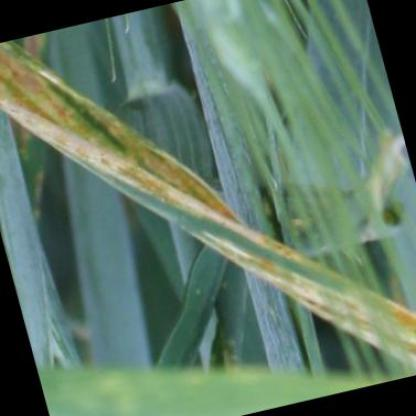Wheat-Yellow-rust: (347, 308, 415, 340), (43, 74, 69, 140), (2, 54, 29, 110), (78, 102, 103, 162), (248, 242, 295, 267), (167, 171, 200, 206), (142, 146, 165, 196), (115, 124, 134, 183), (288, 279, 330, 303), (212, 193, 231, 218)
